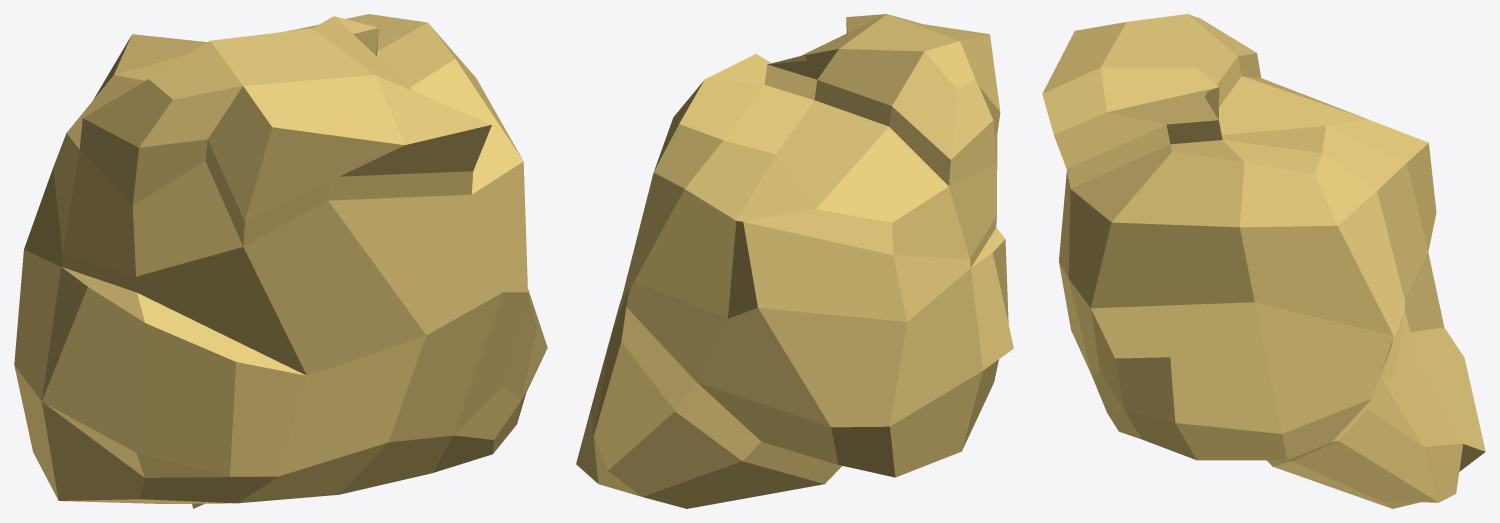
The model's file is popcorn1.fbx.
3 views of the same model, side by side, from view 1: azimuth 30°, elevation 25°; view 2: azimuth 150°, elevation 25°; view 3: azimuth 270°, elevation 25° (orthographic). The views are drawn at different scales.
Visible parts, largest first — view 1: POPCORN.004; view 2: POPCORN.004; view 3: POPCORN.004.
Boxes of the visible parts, box(x1,y1,x2,y2) form: POPCORN.004: box(14, 14, 547, 508); POPCORN.004: box(576, 14, 1013, 508); POPCORN.004: box(1042, 14, 1485, 508).
Bounding box in the file's own units: 40.49 × 45.11 × 43.56.
